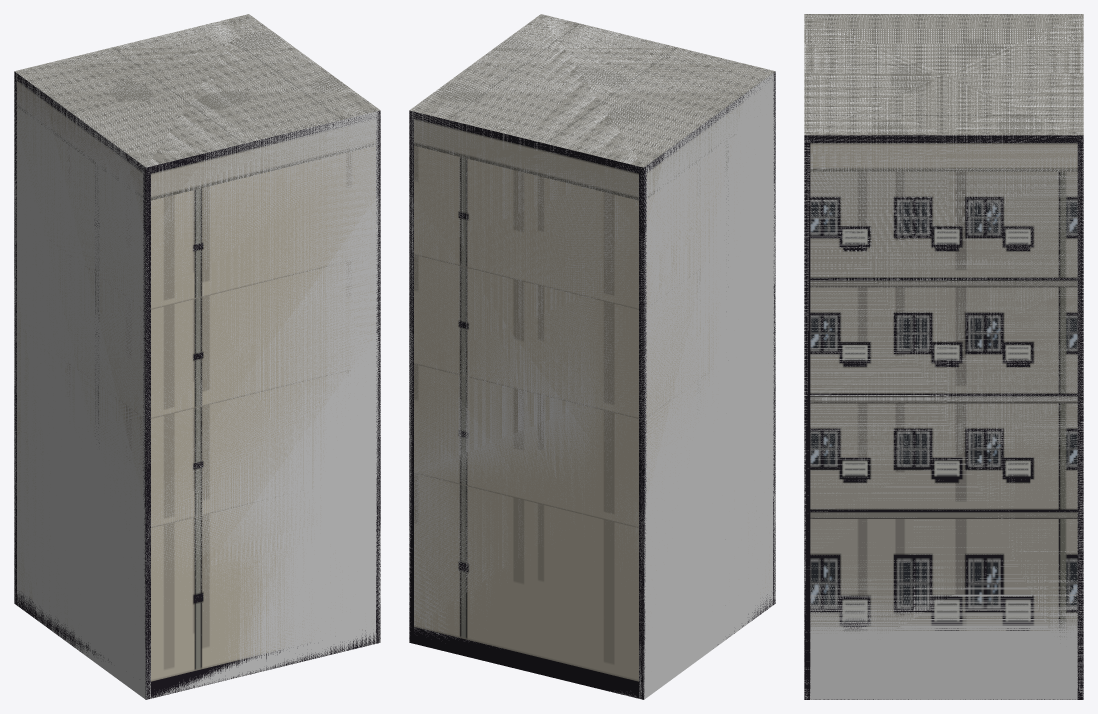
The picture shows the model from 3 angles, left to right: view 1: azimuth 30°, elevation 25°; view 2: azimuth 150°, elevation 25°; view 3: azimuth 270°, elevation 25°; orthographic projection. The views are drawn at different scales.
Visible parts, largest first — view 1: COL_19D-E11_0, 19D-E11; view 2: 19D-E11, COL_19D-E11_0; view 3: 19D-E11, COL_19D-E11_0.
Part boxes in pixels (bbox=[...]): COL_19D-E11_0: bbox=[14, 14, 380, 699]; 19D-E11: bbox=[14, 14, 380, 699]; 19D-E11: bbox=[409, 14, 775, 699]; COL_19D-E11_0: bbox=[409, 14, 775, 699]; 19D-E11: bbox=[804, 14, 1083, 699]; COL_19D-E11_0: bbox=[804, 14, 1083, 699].
Size of the model in its own units: 7.2 by 15.6 by 7.
Materials: 1 (1 with a texture image).
